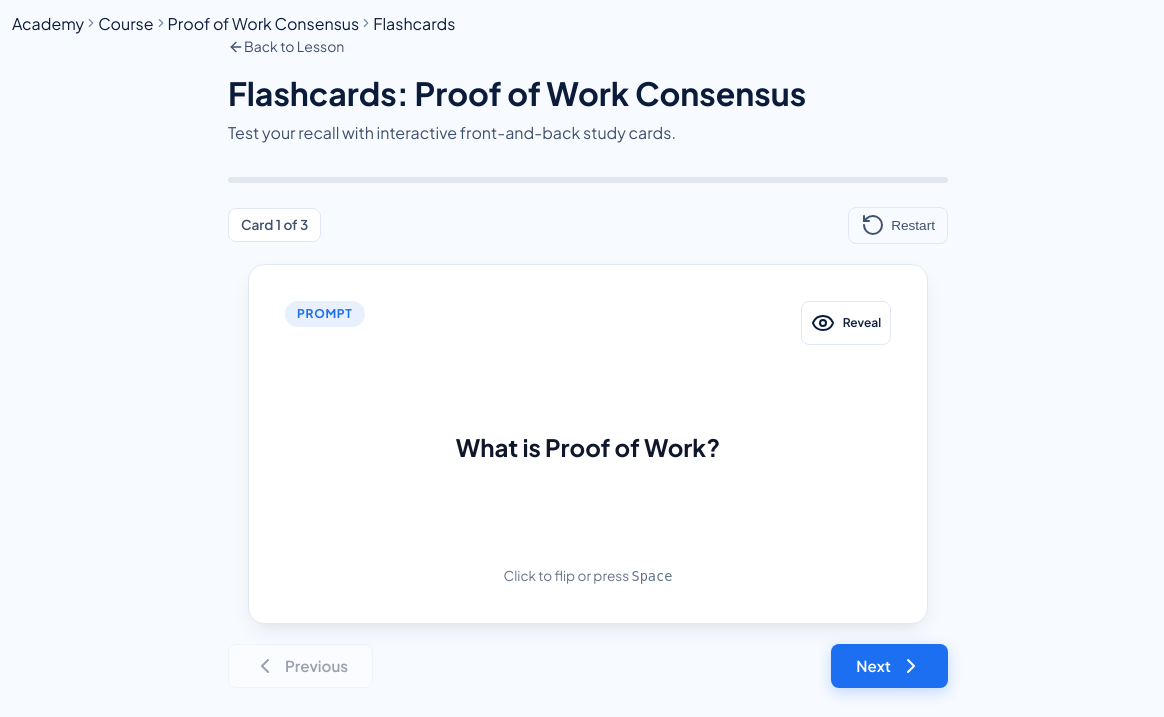
Test: FlashcardReviewPage (FEAT-022: AC-001..AC-018) › advances to next card and RESETS reveal state so back is absent again
# Reveal card 1
Click the button with test id "flashcard-reveal-button" at (846, 323), box [801, 301, 891, 345]
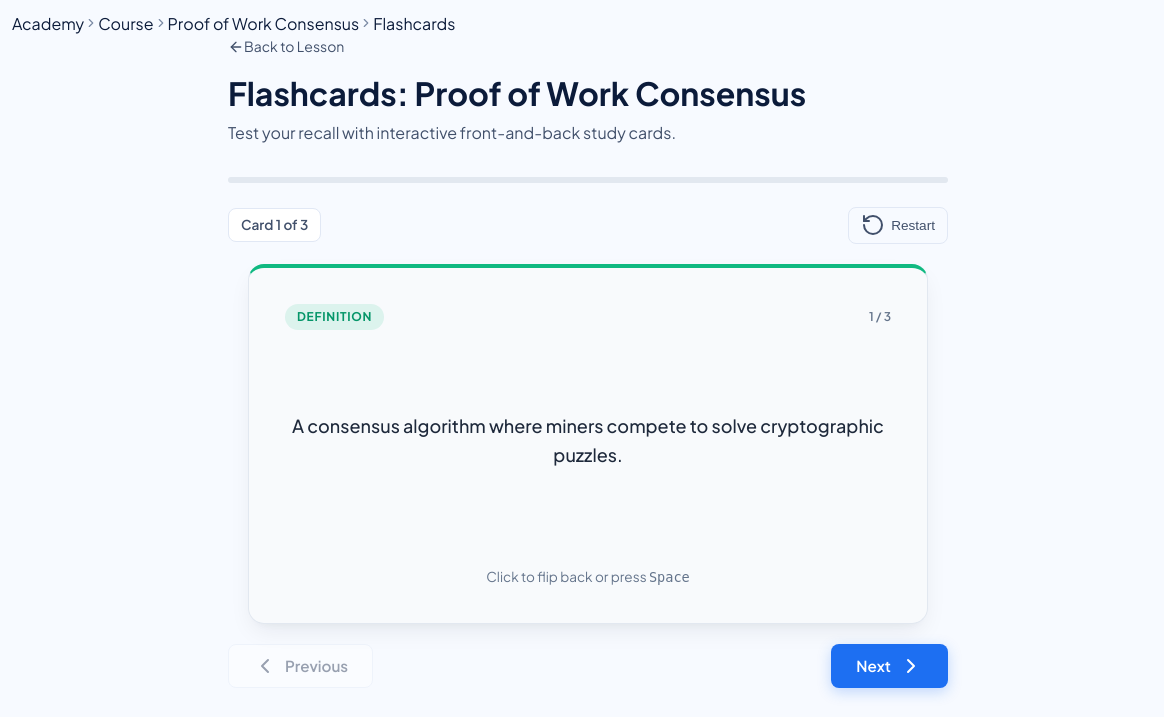
Result: the element with test id "flashcard-back-section" is shown at [248, 264, 928, 624]
# Click Next
Click the button with test id "flashcard-next-button" at (890, 666), box [831, 644, 948, 688]
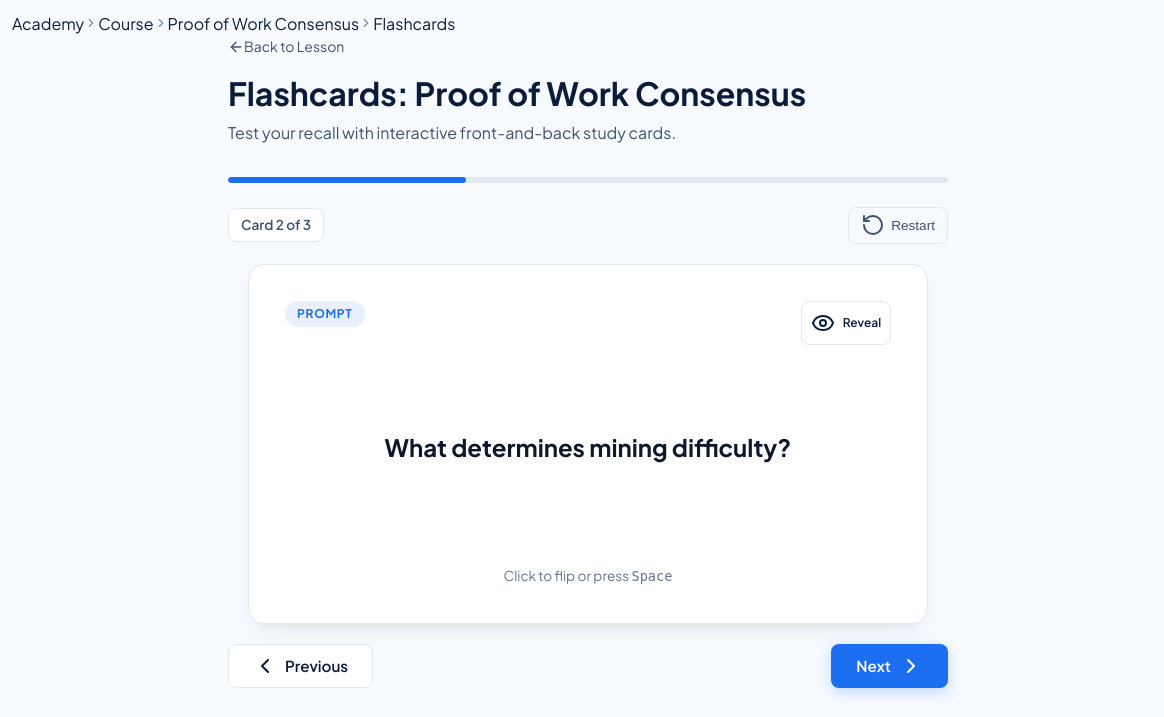
Result: the text with test id "flashcard-position-badge" reads "Card 2 of 3" at [228, 208, 324, 242]
Result: the text "What determines mining difficulty?" is shown at [385, 432, 791, 462]
Result: the element with test id "flashcard-back-section" is gone
